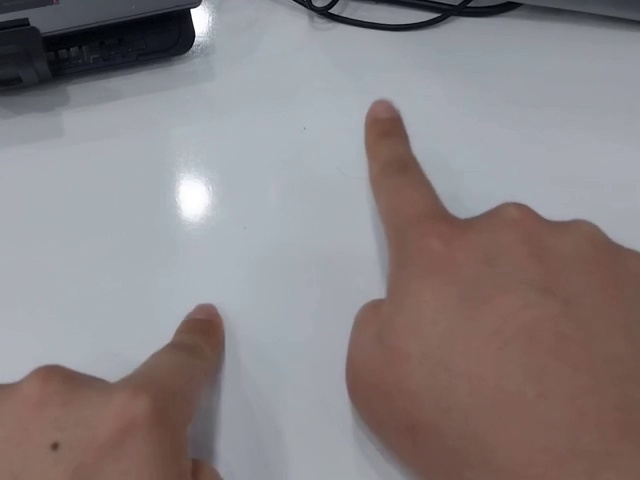fingers: (175, 300, 226, 350), (363, 98, 408, 141)
